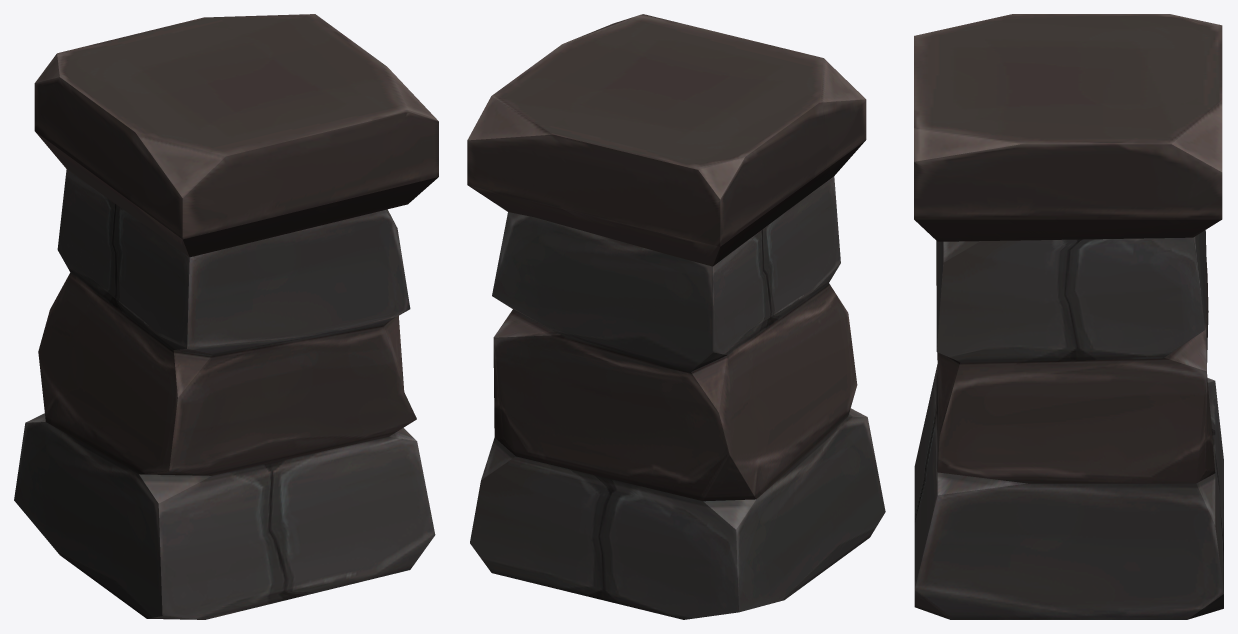
The model's file is A_CA_GEN_Plynth_01.fbx.
3 views of the same model, side by side, from view 1: azimuth 30°, elevation 25°; view 2: azimuth 150°, elevation 25°; view 3: azimuth 270°, elevation 25° (orthographic). The views are drawn at different scales.
Visible parts, largest first — view 1: A_CA_GEN_Plynth_01; view 2: A_CA_GEN_Plynth_01; view 3: A_CA_GEN_Plynth_01.
Boxes of the visible parts, bbox=[...] form: A_CA_GEN_Plynth_01: bbox=[14, 14, 438, 619]; A_CA_GEN_Plynth_01: bbox=[467, 14, 885, 619]; A_CA_GEN_Plynth_01: bbox=[914, 14, 1223, 619].
Bounding box in the file's own units: 136 × 215 × 127.
1 material, 1 textured.
